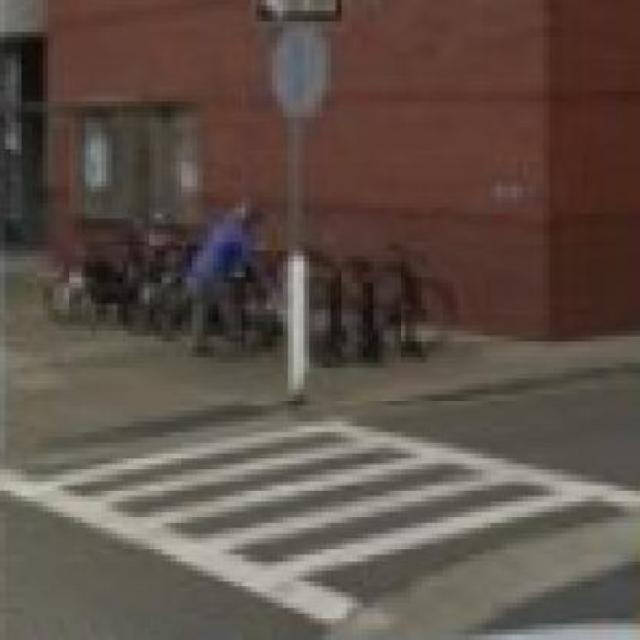crosswalk: (10, 415, 640, 618)
